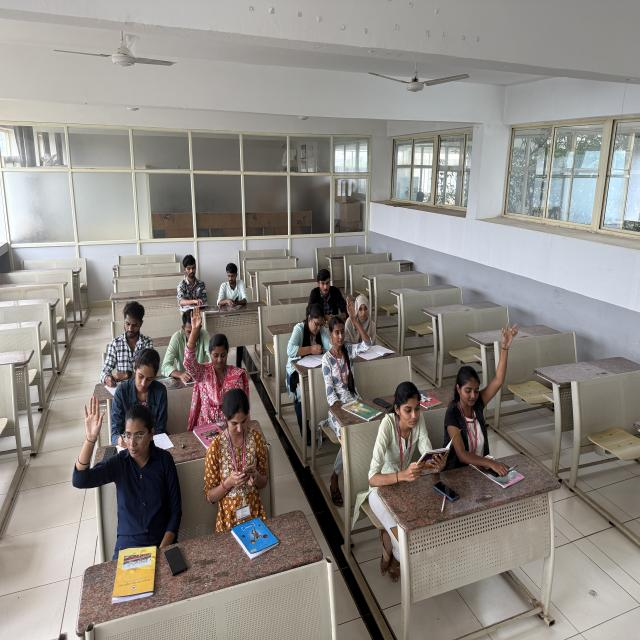Hand Rising: (68, 401, 177, 531), (440, 318, 527, 449), (184, 308, 244, 411), (322, 297, 378, 400)
Reading: (370, 382, 460, 483)
Using Phone: (211, 377, 273, 509), (219, 260, 250, 308)
Writing: (114, 341, 170, 442), (104, 297, 152, 390), (283, 304, 334, 362)
